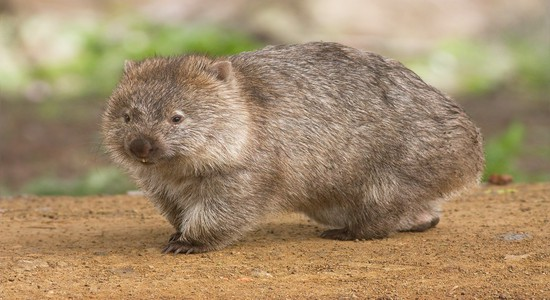Wombat: (99, 37, 489, 253)
